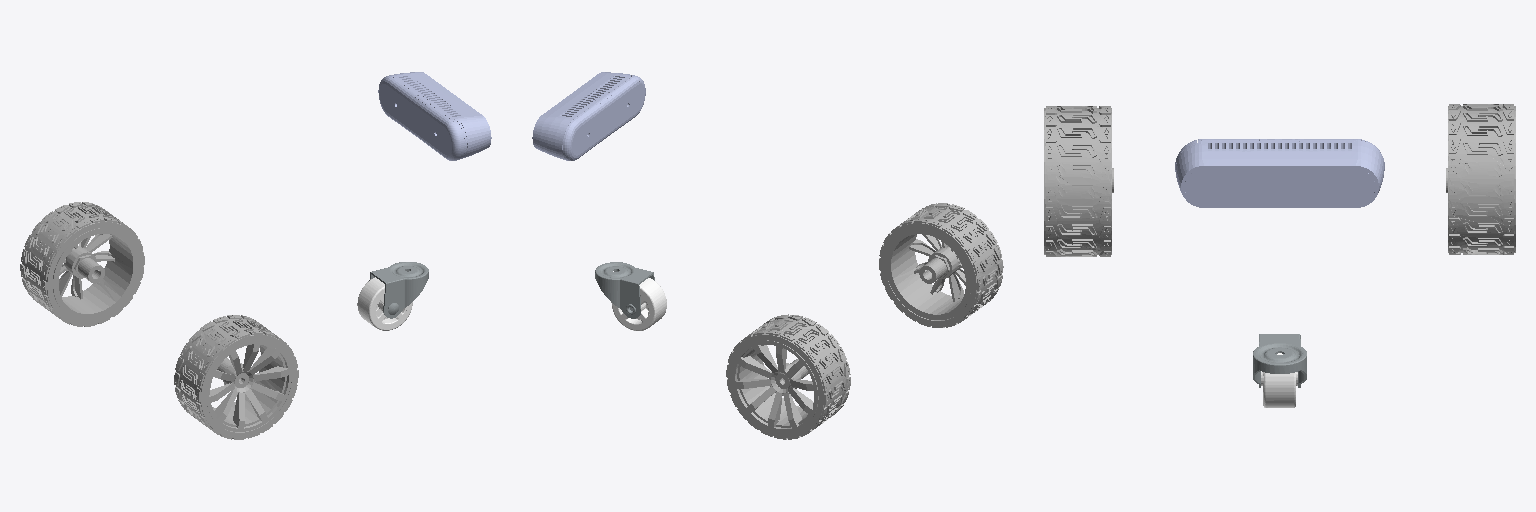
URDF robot description (ros_bot):
<?xml version="1.0" encoding="utf-8"?>
<robot
  name="ros_bot">
  <link
    name="base_foot_link">
    <inertial>
      <origin
        xyz="0.00411294759498473 -0.0017014641244119 -0.00483509493471165"
        rpy="0 0 0" />
      <mass
        value="0.38311851670803" />
      <inertia
        ixx="0.000406108037036768"
        ixy="-1.22941565731846E-07"
        ixz="2.14170986660926E-08"
        iyy="0.000786385385273838"
        iyz="6.41852506315988E-10"
        izz="0.00116054665102357" />
    </inertial>
    <visual>
      <origin
        xyz="0 0 0"
        rpy="0 0 0" />
      <geometry>
        <mesh
          filename="package://ros_bot/meshes/base_foot_link.STL" />
      </geometry>
      <material
        name="">
        <color
          rgba="0.752941176470588 0.752941176470588 0.752941176470588 1" />
      </material>
    </visual>
    <collision>
      <origin
        xyz="0 0 0"
        rpy="0 0 0" />
      <geometry>
        <mesh
          filename="package://ros_bot/meshes/base_foot_link.STL" />
      </geometry>
    </collision>
  </link>
  <link
    name="base_link">
    <inertial>
      <origin
        xyz="0.0751381016612051 -0.00170146412441204 0.0369249050652886"
        rpy="0 0 0" />
      <mass
        value="0.38311851670803" />
      <inertia
        ixx="0.000406108037036768"
        ixy="-1.22941565731751E-07"
        ixz="2.14170986660927E-08"
        iyy="0.000786385385273838"
        iyz="6.41852506316366E-10"
        izz="0.00116054665102357" />
    </inertial>
    <visual>
      <origin
        xyz="0 0 0"
        rpy="0 0 0" />
      <geometry>
        <mesh
          filename="package://ros_bot/meshes/base_link.STL" />
      </geometry>
      <material
        name="">
        <color
          rgba="0.752941176470588 0.752941176470588 0.752941176470588 1" />
      </material>
    </visual>
    <collision>
      <origin
        xyz="0 0 0"
        rpy="0 0 0" />
      <geometry>
        <mesh
          filename="package://ros_bot/meshes/base_link.STL" />
      </geometry>
    </collision>
  </link>
  <joint
    name="base_joint"
    type="fixed">
    <origin
      xyz="-0.0710251540662204 0 -0.04176"
      rpy="0 0 0" />
    <parent
      link="base_foot_link" />
    <child
      link="base_link" />
    <axis
      xyz="0 0 0" />
  </joint>
  <link
    name="left_wheel_link">
    <inertial>
      <origin
        xyz="5.13482466548421E-05 -0.177540991604818 -0.000449282299876924"
        rpy="0 0 0" />
      <mass
        value="0.0790308296109892" />
      <inertia
        ixx="2.81839370371313E-05"
        ixy="7.58378073288315E-11"
        ixz="3.6778460080753E-11"
        iyy="4.60803895906717E-05"
        iyz="2.72398124747911E-10"
        izz="2.82171081442126E-05" />
    </inertial>
    <visual>
      <origin
        xyz="0 0 0"
        rpy="0 0 0" />
      <geometry>
        <mesh
          filename="package://ros_bot/meshes/left_wheel_link.STL" />
      </geometry>
      <material
        name="">
        <color
          rgba="0.752941176470588 0.752941176470588 0.752941176470588 1" />
      </material>
    </visual>
    <collision>
      <origin
        xyz="0 0 0"
        rpy="0 0 0" />
      <geometry>
        <mesh
          filename="package://ros_bot/meshes/left_wheel_link.STL" />
      </geometry>
    </collision>
  </link>
  <joint
    name="left_wheel_joint"
    type="continuous">
    <origin
      xyz="-1.00000000000794E-05 0.091 0"
      rpy="0 0 0" />
    <parent
      link="base_link" />
    <child
      link="left_wheel_link" />
    <axis
      xyz="0.000701754213170092 -0.999999753770482 0" />
  </joint>
  <link
    name="right_wheel_link">
    <inertial>
      <origin
        xyz="-0.000419350373454475 0.177540992457883 0.000208227679218631"
        rpy="0 0 0" />
      <mass
        value="0.0790308149862002" />
      <inertia
        ixx="2.82118411057345E-05"
        ixy="-2.79371430072133E-10"
        ixz="-1.21231918562001E-08"
        iyy="4.60803895783346E-05"
        iyz="3.9006299645467E-11"
        izz="2.81892042761115E-05" />
    </inertial>
    <visual>
      <origin
        xyz="0 0 0"
        rpy="0 0 0" />
      <geometry>
        <mesh
          filename="package://ros_bot/meshes/right_wheel_link.STL" />
      </geometry>
      <material
        name="">
        <color
          rgba="0.752941176470588 0.752941176470588 0.752941176470588 1" />
      </material>
    </visual>
    <collision>
      <origin
        xyz="0 0 0"
        rpy="0 0 0" />
      <geometry>
        <mesh
          filename="package://ros_bot/meshes/right_wheel_link.STL" />
      </geometry>
    </collision>
  </link>
  <joint
    name="right_wheel_joint"
    type="continuous">
    <origin
      xyz="1.0000000000121E-05 -0.091 0"
      rpy="0 0 0" />
    <parent
      link="base_link" />
    <child
      link="right_wheel_link" />
    <axis
      xyz="0.000701754213170092 -0.999999753770482 0" />
  </joint>
  <link
    name="base_caster_link">
    <inertial>
      <origin
        xyz="-0.00768408967955933 -0.00024479935479213 -0.0070053967341222"
        rpy="0 0 0" />
      <mass
        value="0.00176762589428719" />
      <inertia
        ixx="1.59843451760908E-07"
        ixy="-8.16873479192891E-11"
        ixz="-3.17693736515374E-08"
        iyy="1.6837089365954E-07"
        iyz="-3.04010836782013E-10"
        izz="2.17698704607142E-07" />
    </inertial>
    <visual>
      <origin
        xyz="0 0 0"
        rpy="0 0 0" />
      <geometry>
        <mesh
          filename="package://ros_bot/meshes/base_caster_link.STL" />
      </geometry>
      <material
        name="">
        <color
          rgba="0.63921568627451 0.666666666666667 0.67843137254902 1" />
      </material>
    </visual>
    <collision>
      <origin
        xyz="0 0 0"
        rpy="0 0 0" />
      <geometry>
        <mesh
          filename="package://ros_bot/meshes/base_caster_link.STL" />
      </geometry>
    </collision>
  </link>
  <joint
    name="base_caster_joint"
    type="continuous">
    <origin
      xyz="0.162 0 -0.00674"
      rpy="0 0 0" />
    <parent
      link="base_link" />
    <child
      link="base_caster_link" />
    <axis
      xyz="0 0 1" />
  </joint>
  <link
    name="wheel_caster_link">
    <inertial>
      <origin
        xyz="-2.22866725074766E-11 1.77096097508933E-09 -4.92073048974362E-12"
        rpy="0 0 0" />
      <mass
        value="0.00729483581535409" />
      <inertia
        ixx="5.45978537565807E-07"
        ixy="-2.92890258511509E-09"
        ixz="-2.24527559306953E-16"
        iyy="8.56359321910781E-07"
        iyz="2.61254735137175E-17"
        izz="5.45950901547597E-07" />
    </inertial>
    <visual>
      <origin
        xyz="0 0 0"
        rpy="0 0 0" />
      <geometry>
        <mesh
          filename="package://ros_bot/meshes/wheel_caster_link.STL" />
      </geometry>
      <material
        name="">
        <color
          rgba="1 1 1 1" />
      </material>
    </visual>
    <collision>
      <origin
        xyz="0 0 0"
        rpy="0 0 0" />
      <geometry>
        <mesh
          filename="package://ros_bot/meshes/wheel_caster_link.STL" />
      </geometry>
    </collision>
  </link>
  <joint
    name="wheel_caster_joint"
    type="continuous">
    <origin
      xyz="-0.015014205679157 -0.000141668664297975 -0.016460146975"
      rpy="0 0 0" />
    <parent
      link="base_caster_link" />
    <child
      link="wheel_caster_link" />
    <axis
      xyz="-0.00943522163416793 0.999955487305667 0" />
  </joint>
  <link
    name="camera_link">
    <inertial>
      <origin
        xyz="-0.00425419947520866 -0.00164672998298569 -0.00183664240513837"
        rpy="0 0 0" />
      <mass
        value="0.0447468760024897" />
      <inertia
        ixx="2.72782867996723E-05"
        ixy="2.44473040108708E-07"
        ixz="-1.09538943535642E-09"
        iyy="3.94487585585862E-06"
        iyz="-3.10300311790932E-09"
        izz="2.7362798222711E-05" />
    </inertial>
    <visual>
      <origin
        xyz="0 0 0"
        rpy="0 0 0" />
      <geometry>
        <mesh
          filename="package://ros_bot/meshes/camera_link.STL" />
      </geometry>
      <material
        name="">
        <color
          rgba="0.792156862745098 0.819607843137255 0.933333333333333 1" />
      </material>
    </visual>
    <collision>
      <origin
        xyz="0 0 0"
        rpy="0 0 0" />
      <geometry>
        <mesh
          filename="package://ros_bot/meshes/camera_link.STL" />
      </geometry>
    </collision>
  </link>
  <joint
    name="camera_joint"
    type="fixed">
    <origin
      xyz="0.183154310979188 0.00189215941669688 0.0881751807805628"
      rpy="0 0 0" />
    <parent
      link="base_link" />
    <child
      link="camera_link" />
    <axis
      xyz="0 0 0" />
  </joint>
</robot>

--- Facts derived from the render (not from the file) ---
3 views of the same robot in one strip: view 1: azimuth 30°, elevation 25°; view 2: azimuth 150°, elevation 25°; view 3: azimuth 270°, elevation 25° (orthographic).
Model ros_bot with 7 links and 6 joints (4 continuous, 2 fixed), rooted at base_foot_link, posed every joint at zero.
Links seen in each view (by area): view 1: left_wheel_link, right_wheel_link, camera_link, base_caster_link, wheel_caster_link; view 2: left_wheel_link, right_wheel_link, camera_link, base_caster_link, wheel_caster_link; view 3: camera_link, left_wheel_link, right_wheel_link, base_caster_link, wheel_caster_link.
Link boxes in pixels (box(x1,y1,x2,y2)): left_wheel_link: box(174, 315, 298, 439); right_wheel_link: box(20, 202, 144, 326); camera_link: box(378, 72, 491, 160); base_caster_link: box(369, 262, 428, 318); wheel_caster_link: box(357, 277, 412, 330); left_wheel_link: box(879, 203, 1003, 327); right_wheel_link: box(726, 314, 850, 439); camera_link: box(532, 72, 645, 160); base_caster_link: box(595, 262, 654, 318); wheel_caster_link: box(611, 278, 666, 330); camera_link: box(1175, 139, 1384, 207); left_wheel_link: box(1044, 106, 1113, 256); right_wheel_link: box(1446, 104, 1515, 254); base_caster_link: box(1253, 334, 1306, 387); wheel_caster_link: box(1261, 353, 1297, 407).
Bounding box of the posed robot: 0.2248 × 0.2021 × 0.1366 m (x, y, z).
5 mesh visuals loaded from 7 distinct referenced files (5 binary STL); not drawn: 2 (reference not matched to a file when rendering).